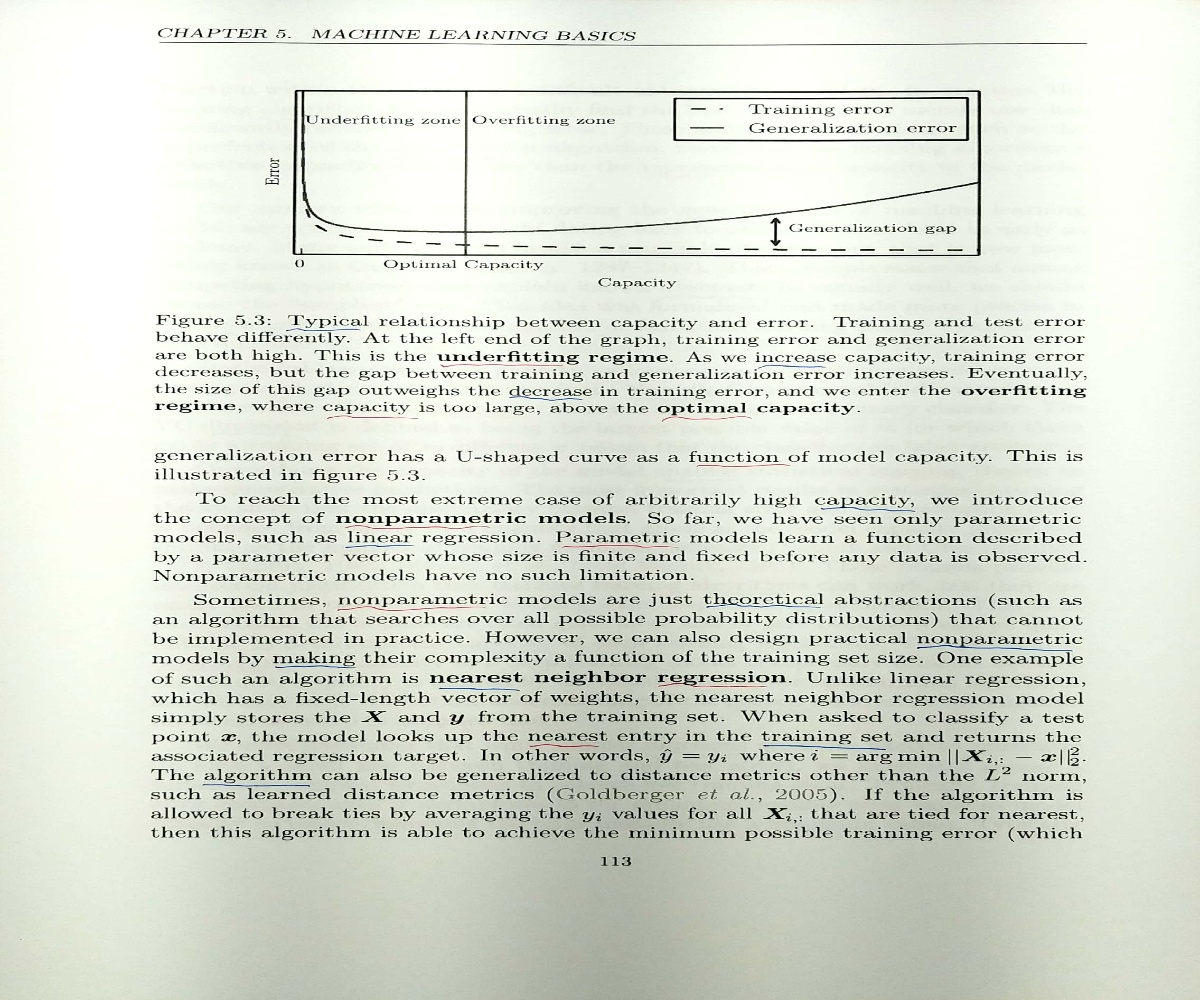underline: (917, 644, 1077, 656), (762, 740, 889, 752), (335, 604, 490, 613), (657, 411, 756, 425), (342, 522, 495, 531), (559, 540, 683, 550), (655, 681, 775, 691), (703, 601, 820, 611), (200, 781, 310, 791), (818, 505, 920, 515), (436, 683, 521, 695), (324, 412, 420, 422), (436, 362, 566, 369), (272, 661, 357, 671), (508, 392, 584, 403), (529, 740, 602, 751), (692, 462, 792, 470), (284, 324, 359, 333), (344, 542, 416, 551), (755, 363, 823, 371)
